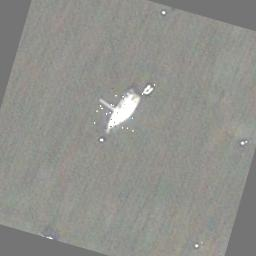boat: (92, 80, 146, 142), (141, 81, 156, 96)
